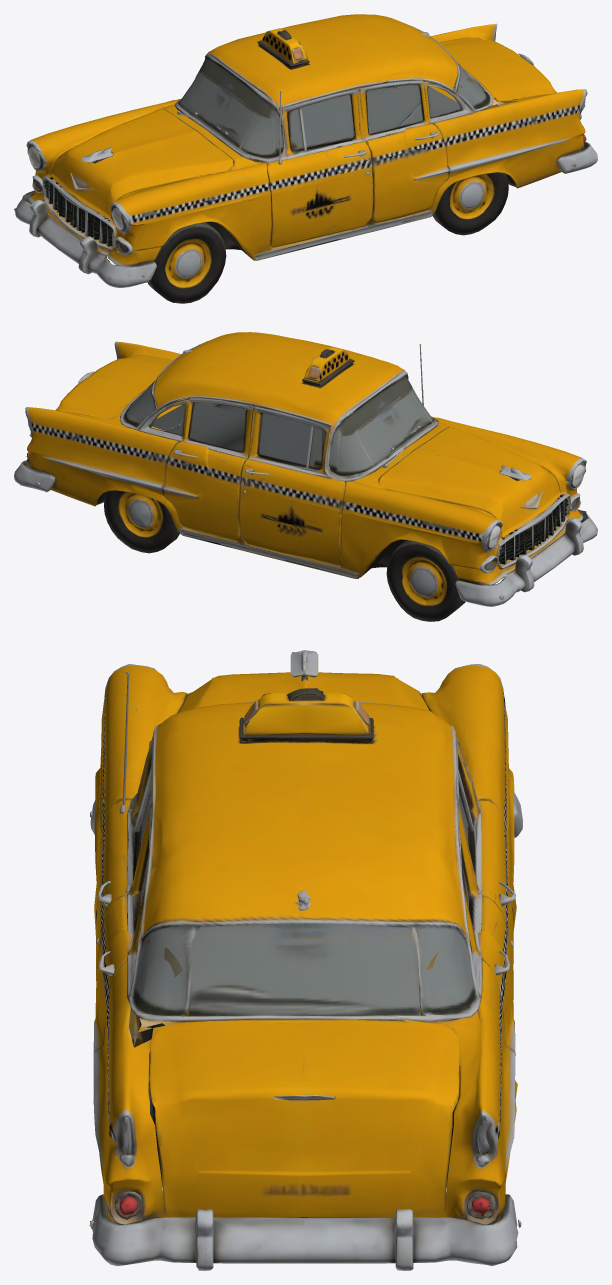
The model's file is chevy_taxi.glb.
3 views of the same model, one above another, from view 1: azimuth 30°, elevation 25°; view 2: azimuth 150°, elevation 25°; view 3: azimuth 270°, elevation 25° (orthographic). The views are drawn at different scales.
Size of the model in its own units: 0.9536 by 0.3711 by 0.3614.
Materials: 1 (1 with a texture image).
